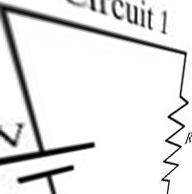resistor: (149, 77, 185, 184)
